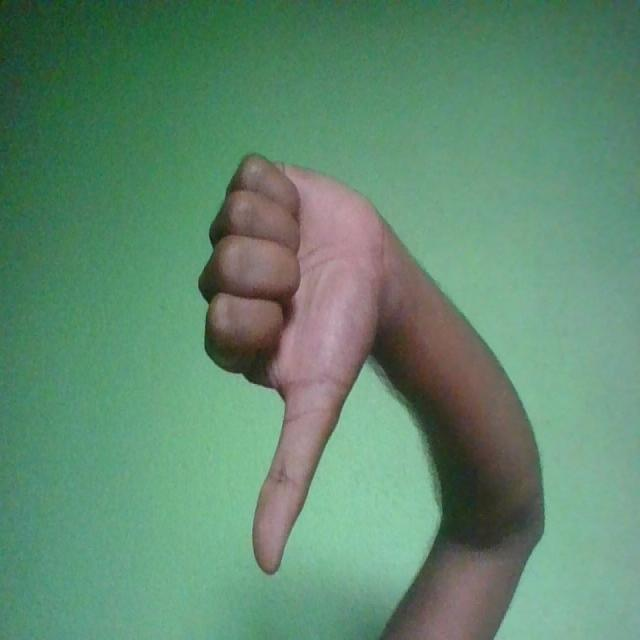Dislike: (198, 153, 388, 578)
